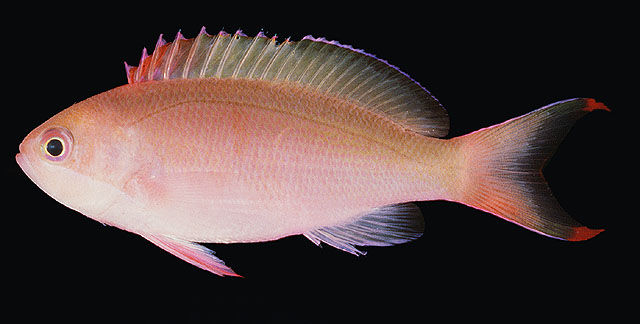fish: (15, 25, 612, 279)
